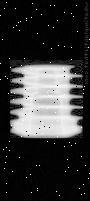AGS Medikal: (10, 60, 83, 138)
